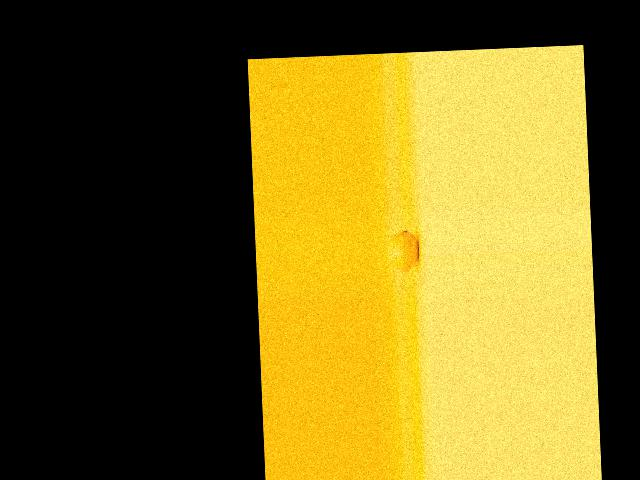lemon: (385, 225, 418, 280)
